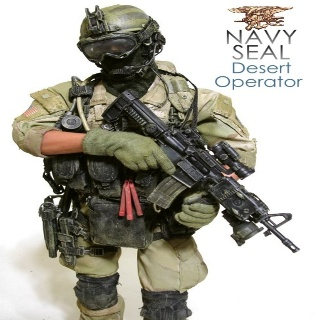rifle: (102, 88, 301, 254)
